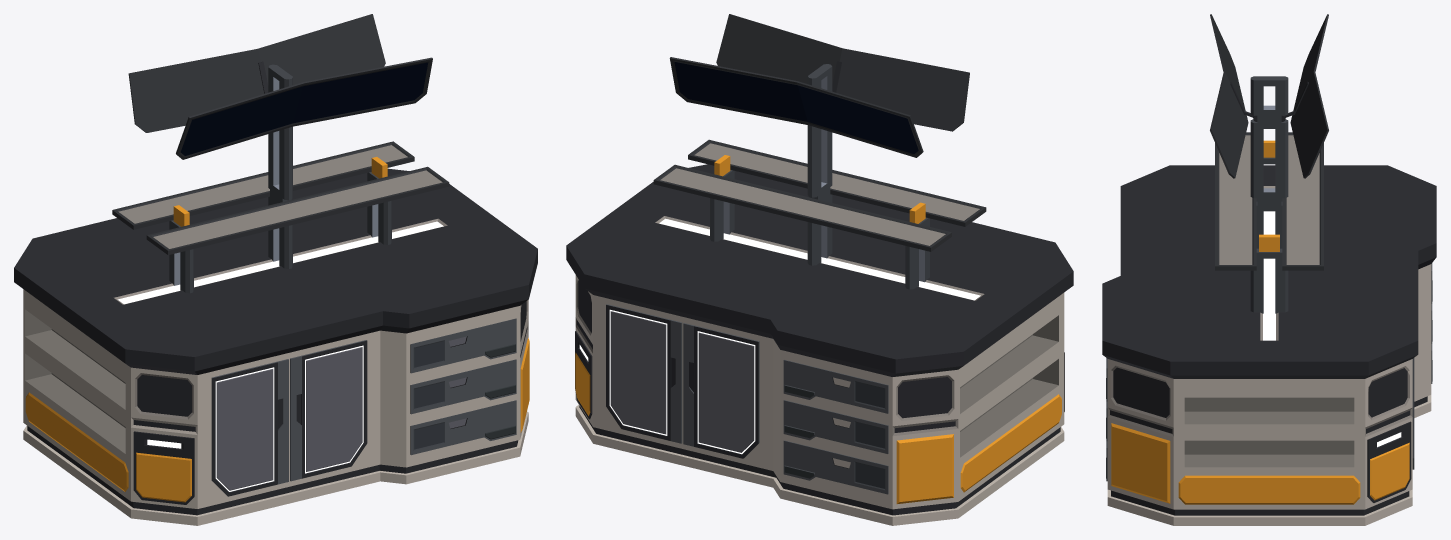
The model's file is SM_Laboratory_Table.glb.
The picture shows the model from 3 angles, left to right: view 1: azimuth 30°, elevation 25°; view 2: azimuth 150°, elevation 25°; view 3: azimuth 270°, elevation 25°; orthographic projection. The views are drawn at different scales.
Parts seen in each view (by area): view 1: SM_Laboratory_Table; view 2: SM_Laboratory_Table; view 3: SM_Laboratory_Table.
Part boxes in pixels (x1=…): SM_Laboratory_Table: x1=14, y1=14, x2=537, y2=525; SM_Laboratory_Table: x1=566, y1=14, x2=1073, y2=525; SM_Laboratory_Table: x1=1102, y1=14, x2=1436, y2=525.
Size of the model in its own units: 2.5 by 2.13 by 1.8.
Materials: 2 (1 with a texture image).
